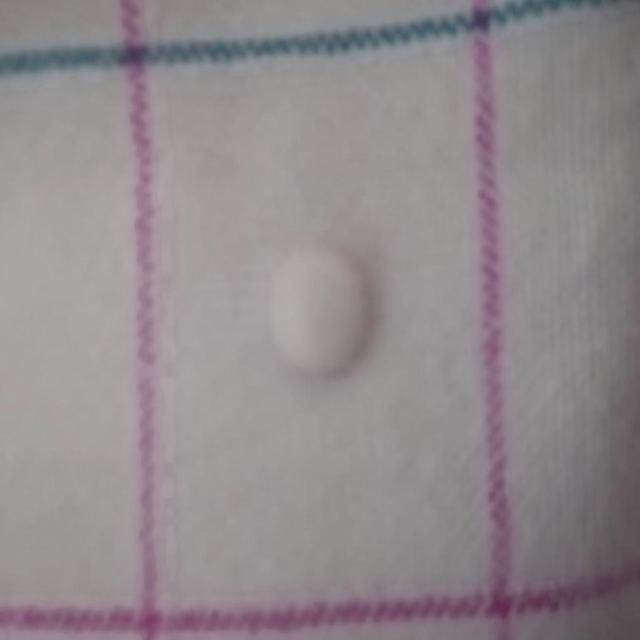pill: (266, 242, 368, 380)
